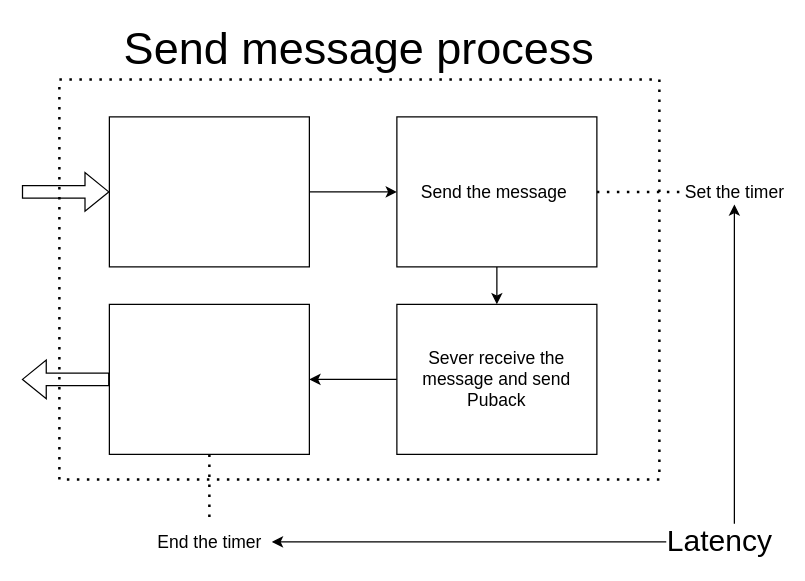
Image size: 805x581. Some labels were removed from this diagram. The shapes that lost their labels are listed below. From the top down, each one's centre as x and y in pixels, then its label:
At (x=208, y=191): "Set the subscribe packet: Topic, Message length, Quality of Service, Retain".
At (x=208, y=378): "Module NB IoT receive the Puback message".
